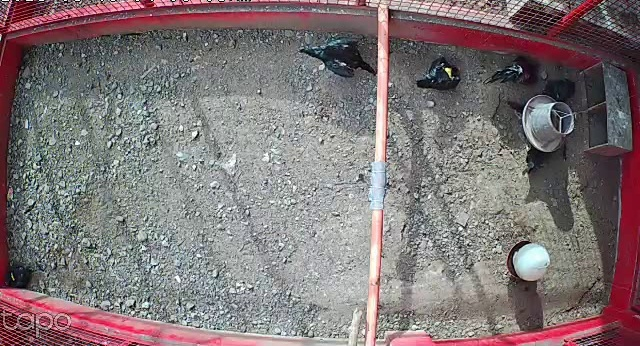Chicken: (300, 36, 377, 84), (416, 56, 463, 93), (537, 78, 577, 104), (2, 262, 34, 289)
Rooster: (479, 52, 545, 89)
Saddle_Color_Yellow: (444, 66, 455, 80)
